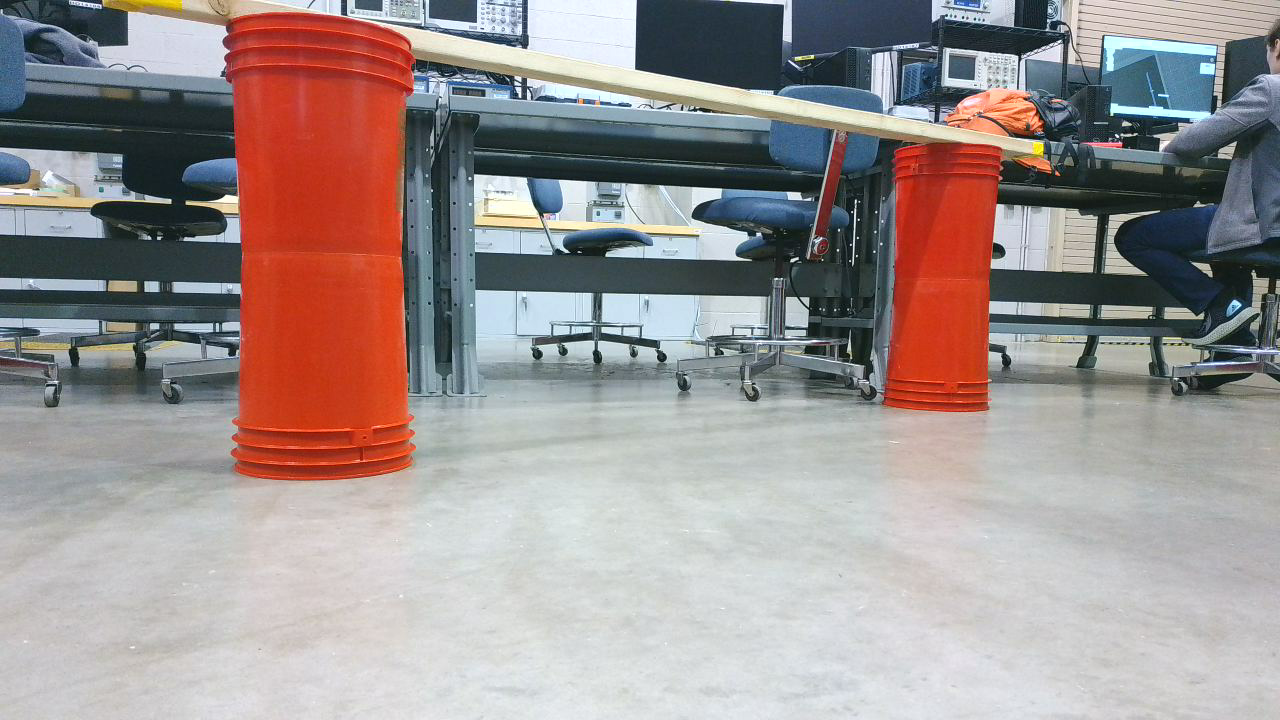red_bucket_arch: (214, 6, 1021, 490)
